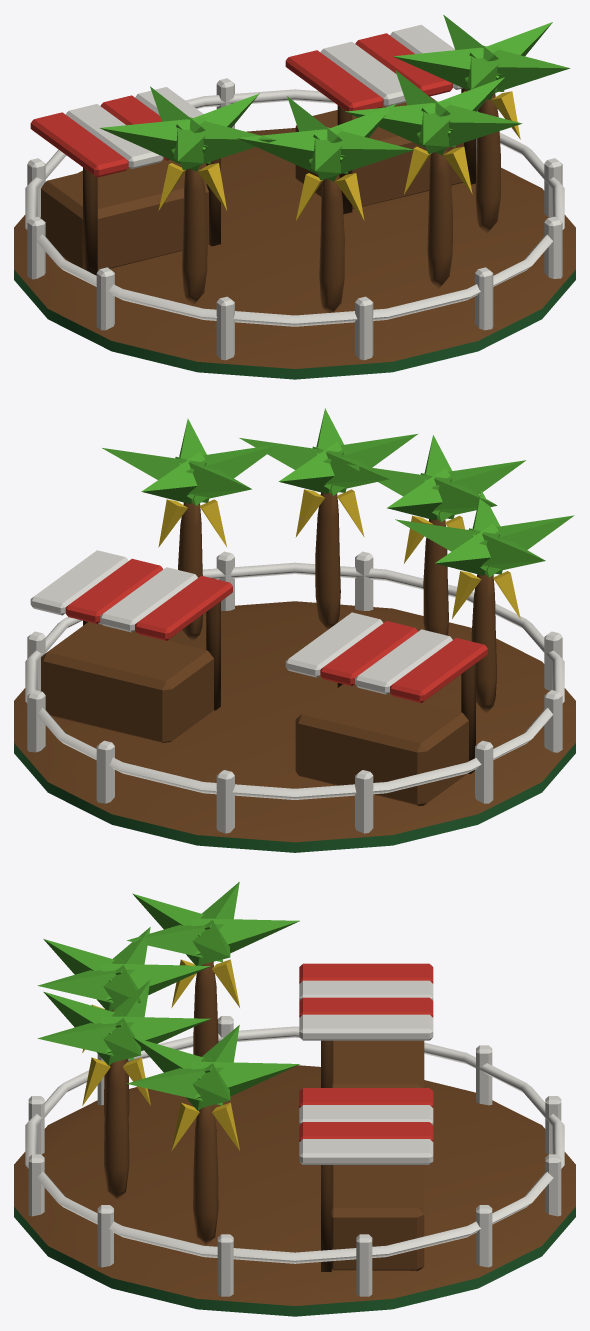
The picture shows the model from 3 angles, top to bottom: view 1: azimuth 30°, elevation 25°; view 2: azimuth 150°, elevation 25°; view 3: azimuth 270°, elevation 25°; orthographic projection.
Visible parts, largest first — view 1: fazenda_0_base, fazenda_1_torreta; view 2: fazenda_0_base, fazenda_1_torreta; view 3: fazenda_0_base, fazenda_1_torreta.
Part boxes in pixels (bbox=[...]): fazenda_0_base: bbox=[14, 24, 575, 379]; fazenda_1_torreta: bbox=[100, 15, 570, 312]; fazenda_0_base: bbox=[14, 550, 575, 852]; fazenda_1_torreta: bbox=[102, 408, 574, 713]; fazenda_0_base: bbox=[14, 963, 575, 1316]; fazenda_1_torreta: bbox=[37, 882, 299, 1245].
Size of the model in its own units: 1.28 by 0.5151 by 1.26.
